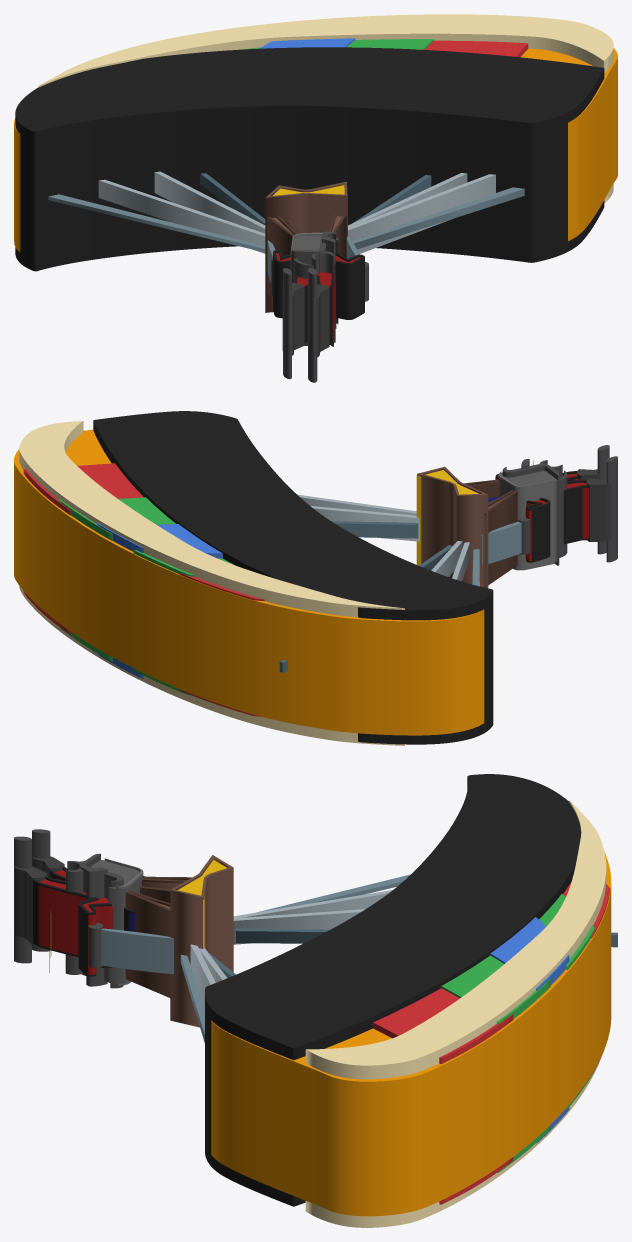
File: emoji_u1fa82.glb
The picture shows the model from 3 angles, top to bottom: view 1: azimuth 30°, elevation 25°; view 2: azimuth 150°, elevation 25°; view 3: azimuth 270°, elevation 25°; orthographic projection. The views are drawn at different scales.
Parts seen in each view (by area): view 1: emoji_u1fa82; view 2: emoji_u1fa82; view 3: emoji_u1fa82.
Boxes of the visible parts, x1=… form: emoji_u1fa82: x1=14, y1=14, x2=617, y2=382; emoji_u1fa82: x1=14, y1=411, x2=617, y2=745; emoji_u1fa82: x1=14, y1=774, x2=617, y2=1227.
Size of the model in its own units: 0.032 by 0.0082 by 0.0277.
